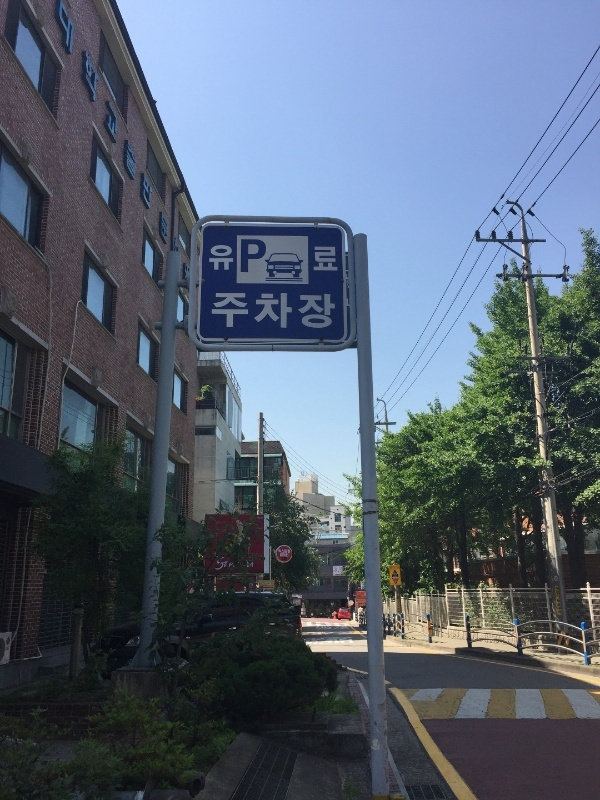text: (65, 1, 80, 249), (81, 1, 96, 249), (97, 1, 112, 249), (113, 1, 128, 249), (129, 1, 144, 249), (145, 1, 160, 249), (161, 1, 169, 249), (177, 237, 191, 287), (321, 291, 337, 330), (225, 291, 240, 330), (241, 291, 256, 330), (257, 291, 272, 330), (273, 291, 288, 330), (289, 291, 304, 330), (305, 291, 320, 330), (241, 239, 256, 273), (213, 291, 224, 330), (321, 246, 336, 272), (257, 239, 268, 273), (211, 245, 224, 271), (225, 552, 240, 571), (63, 1, 64, 249), (241, 552, 254, 571), (225, 245, 234, 271), (214, 552, 224, 571), (314, 246, 320, 272), (174, 237, 176, 287), (337, 246, 339, 272), (278, 549, 288, 553), (281, 553, 288, 557), (289, 549, 291, 553)
